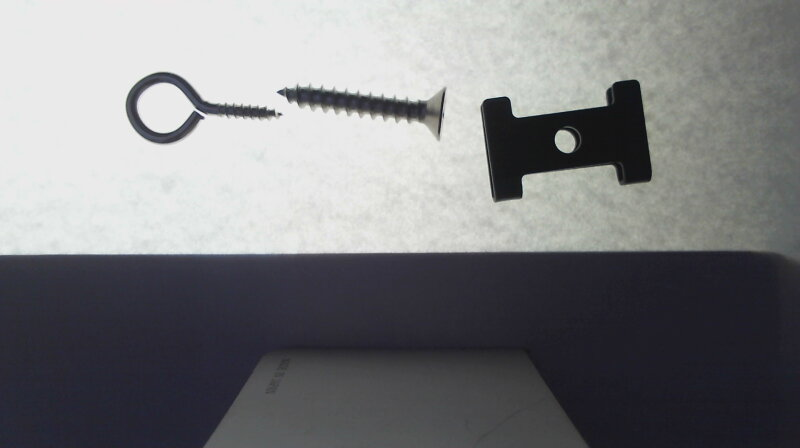O001: (124, 71, 284, 145)
O002: (479, 79, 653, 200)
S001: (279, 84, 446, 139)
